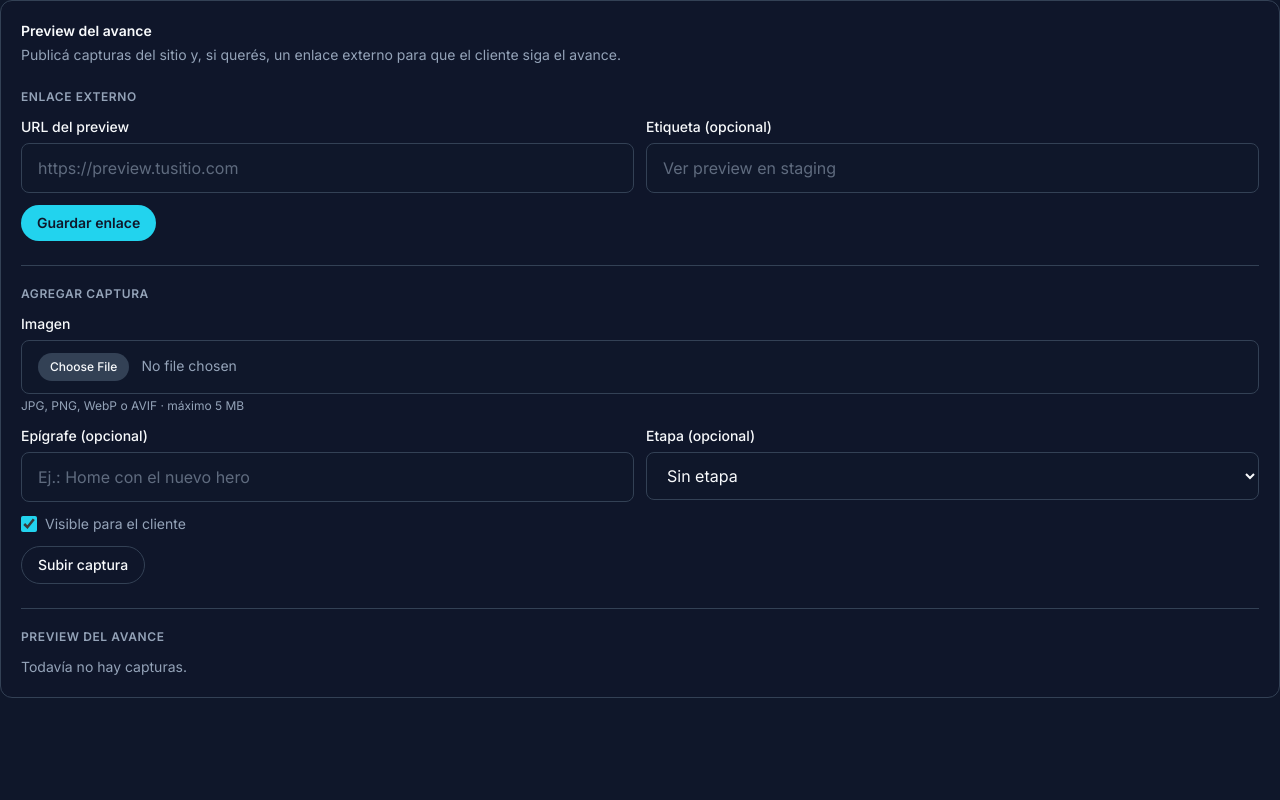
Test case: ProjectPreviewManager › guarda el enlace externo normalizado
This screenshot has width=1280, height=800.
Type "staging.example.com/home" into the field labelled "URL del preview". click: [328, 168]
box: [21,143,634,193]
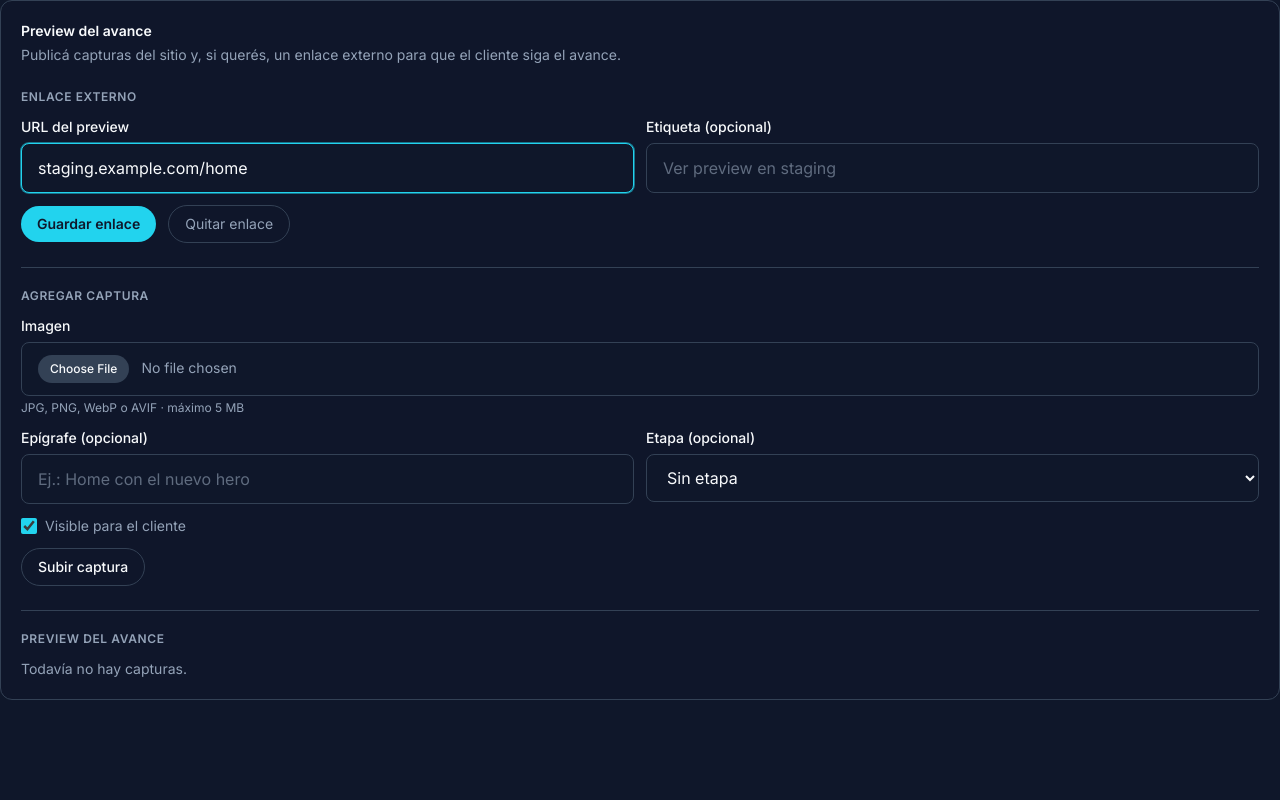
Type "Ver staging" into the field labelled "Etiqueta (opcional)". click: [952, 168]
box: [646,143,1259,193]
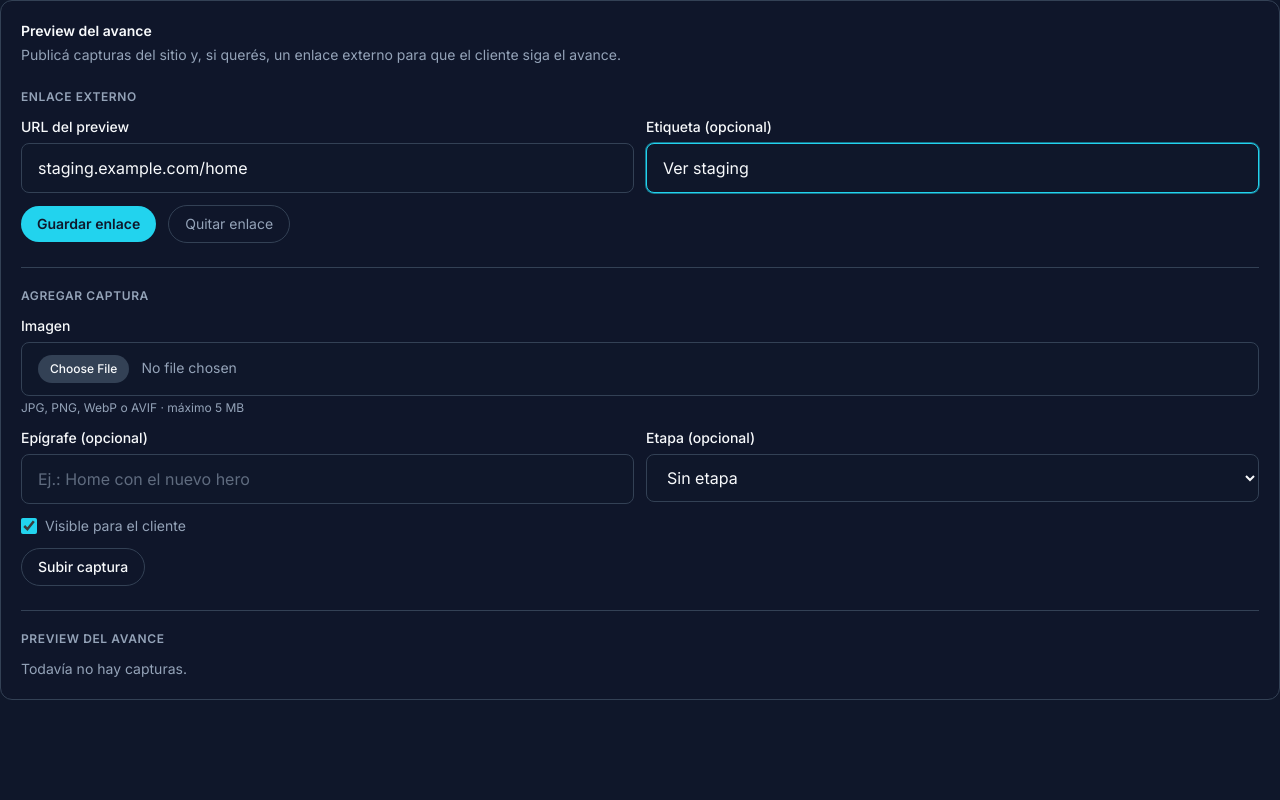
Click the button "Guardar enlace". click: [89, 224]
box: [21,206,156,242]
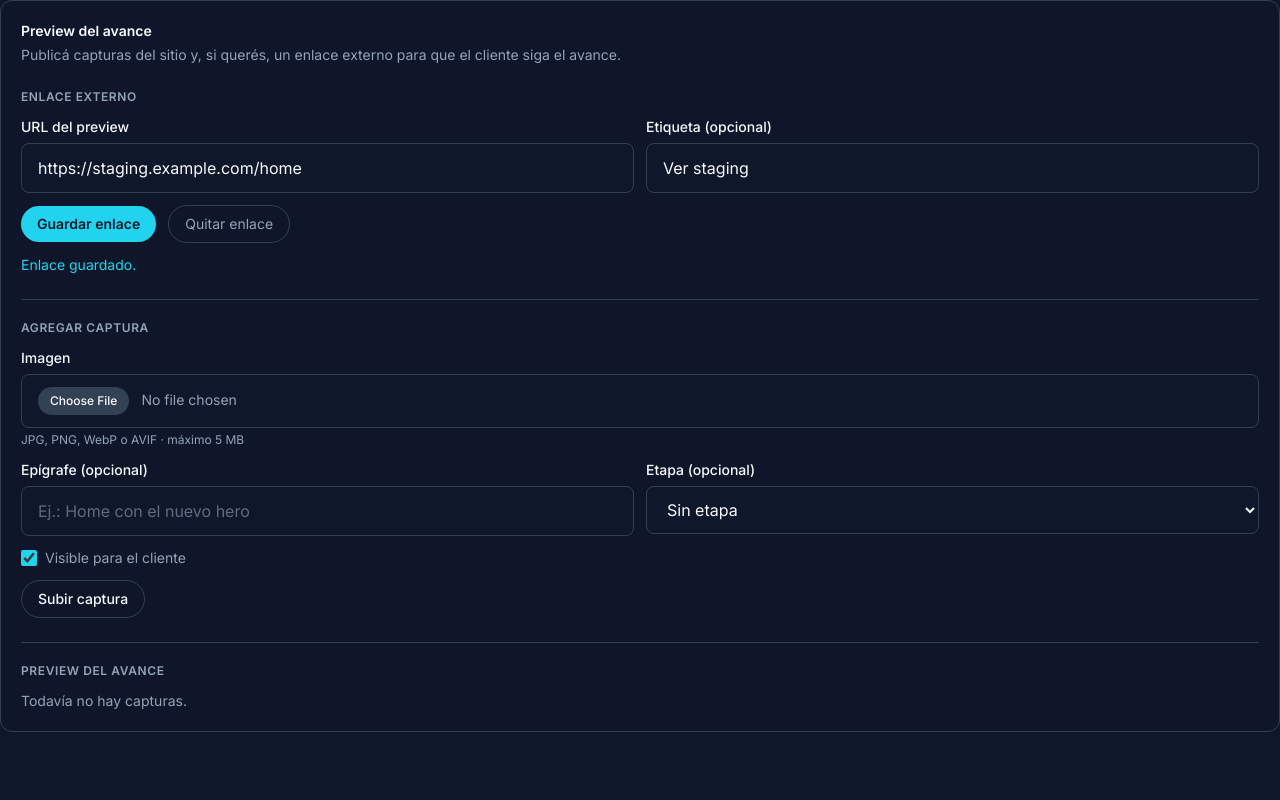
Expected: the text "Enlace guardado." is shown, [21,256,136,273]
